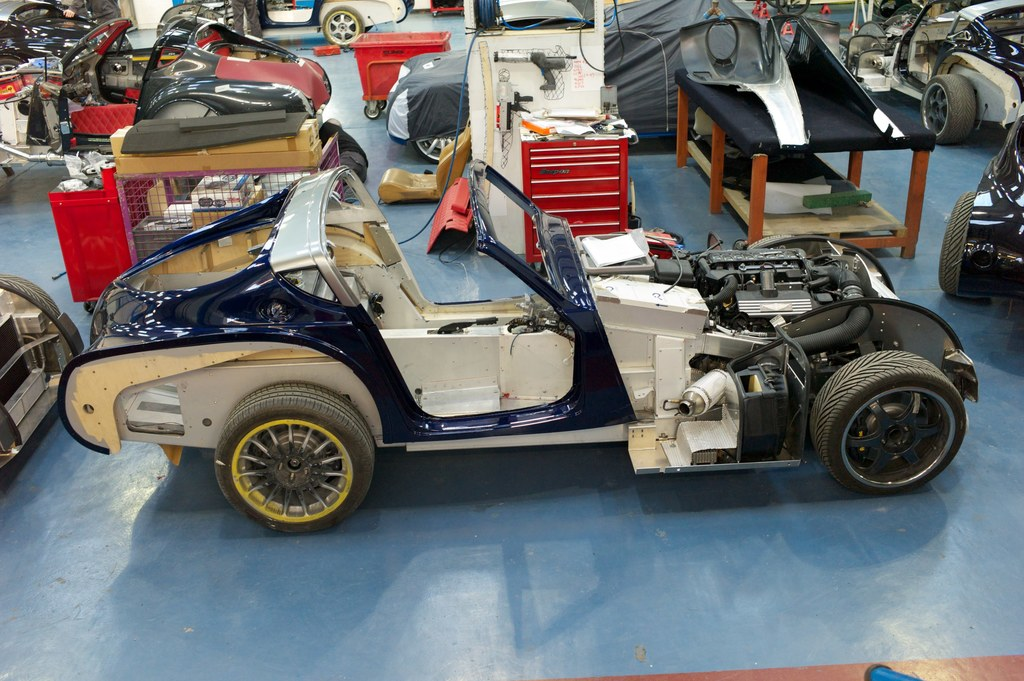Car: (71, 121, 963, 544), (5, 0, 334, 124), (847, 0, 1023, 144), (0, 261, 83, 495), (938, 110, 1023, 307), (175, 0, 414, 51)
